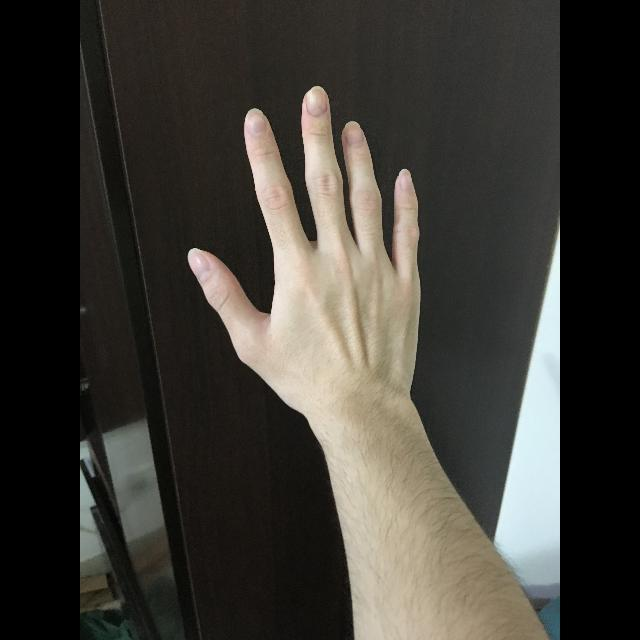bare_hand: (187, 81, 425, 409)
